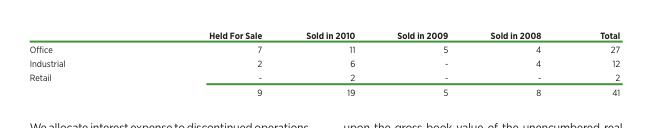table: (28, 29, 619, 96)
table column: (136, 29, 283, 96), (28, 29, 136, 96), (468, 29, 569, 96), (375, 29, 468, 96), (283, 29, 375, 96), (569, 29, 619, 96)
table column header: (28, 29, 619, 41)
table row: (28, 55, 619, 70), (28, 41, 619, 55), (28, 70, 619, 84), (28, 29, 619, 41), (28, 84, 619, 96)
